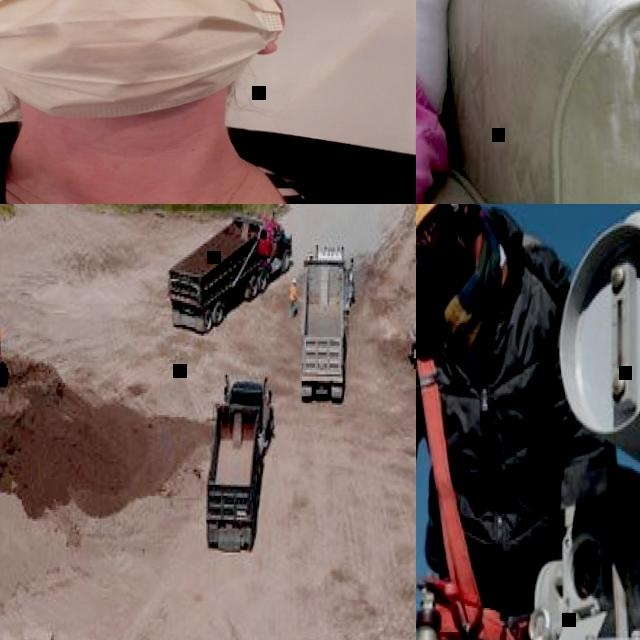Hardhat: (292, 278, 296, 285)
Mask: (0, 0, 276, 119), (424, 227, 472, 301)
NO-Safety Vest: (432, 240, 559, 601), (0, 155, 416, 204)
Person: (416, 204, 614, 640), (0, 0, 416, 204), (416, 0, 529, 204), (289, 278, 299, 319)
Safety Vest: (290, 286, 297, 302)
machinery: (167, 205, 293, 337), (204, 374, 277, 555), (299, 246, 356, 405)
